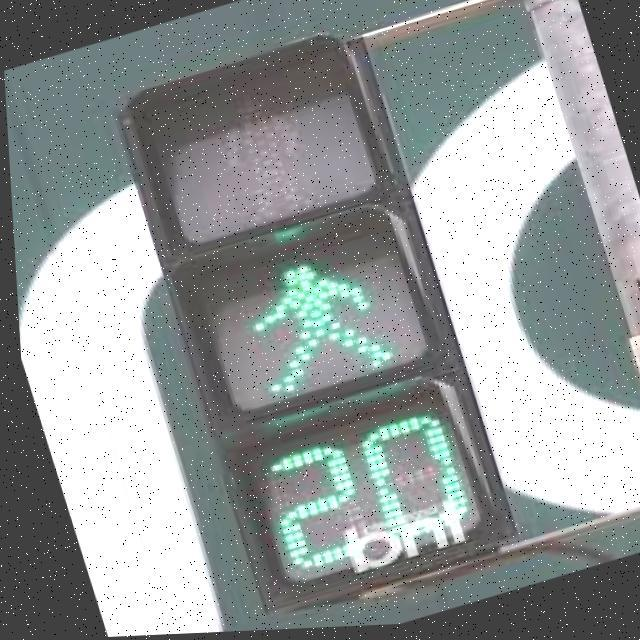green_light: (176, 222, 480, 578)
